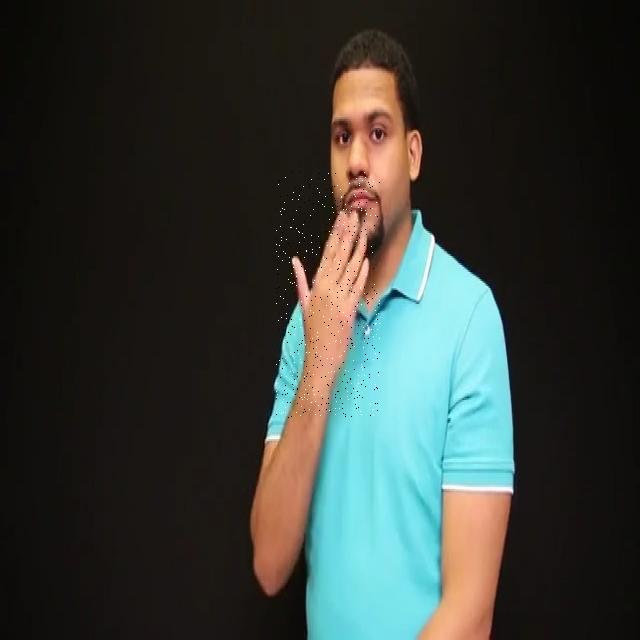sugar: (276, 172, 380, 418)
